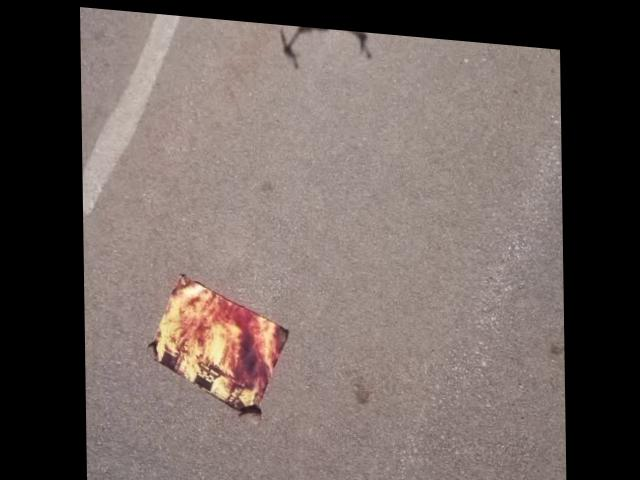fire-poster: (145, 267, 291, 415)
